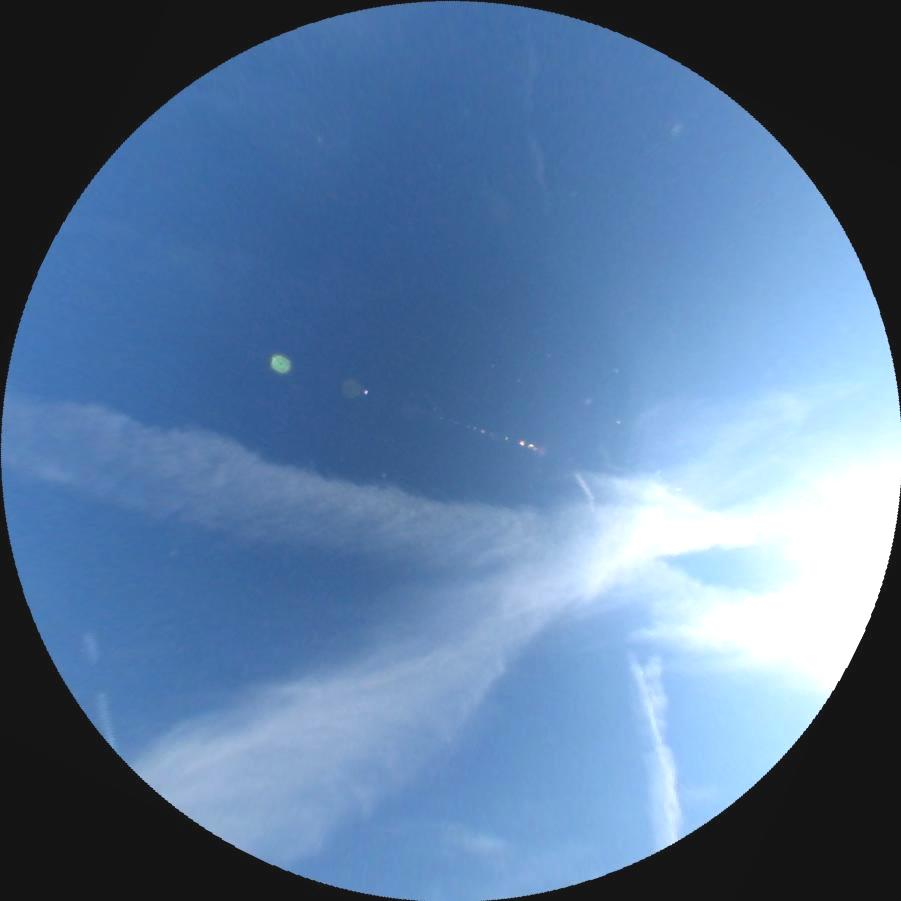contrail old: (573, 469, 671, 770)
contrail veryold: (0, 382, 876, 695), (629, 653, 686, 846)
unknow: (82, 635, 117, 752)
